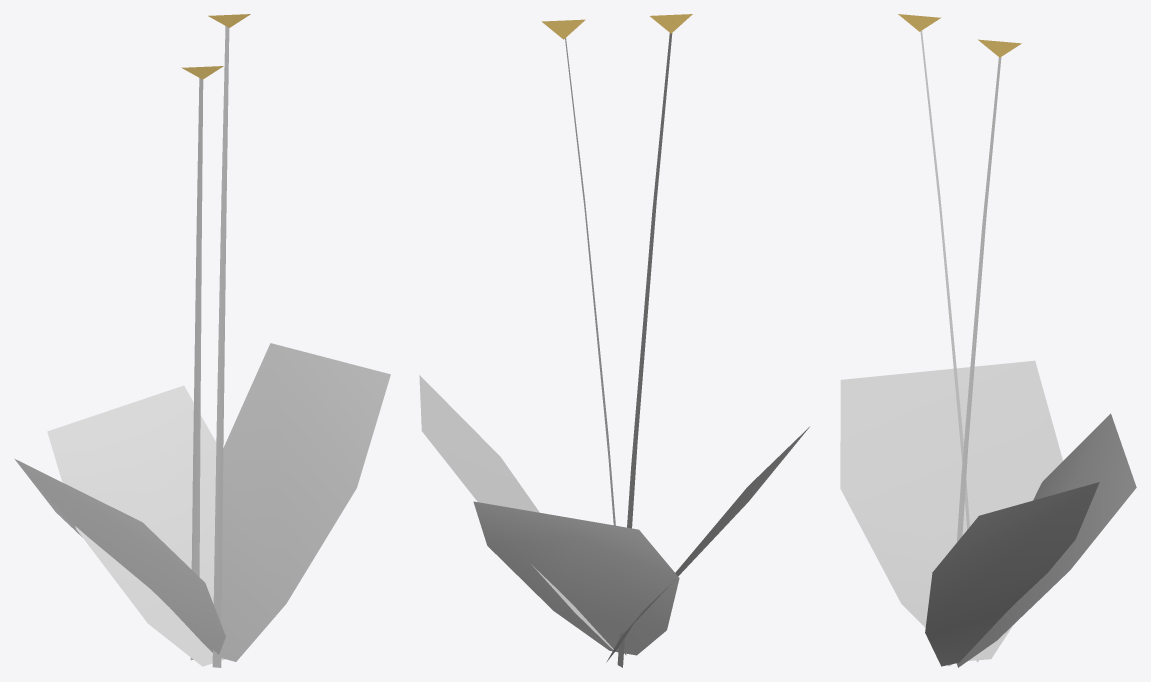
The model's file is BroadPlantainPatch_LOD1.glb.
3 renders of one model, left to right at view 1: azimuth 30°, elevation 25°; view 2: azimuth 150°, elevation 25°; view 3: azimuth 270°, elevation 25°, orthographic. The views are drawn at different scales.
Visible parts, largest first — view 1: BroadPlantainPatch_LOD1; view 2: BroadPlantainPatch_LOD1; view 3: BroadPlantainPatch_LOD1.
Boxes of the visible parts, x1,y1,x2,y2 form: BroadPlantainPatch_LOD1: [15, 14, 390, 667]; BroadPlantainPatch_LOD1: [419, 14, 809, 667]; BroadPlantainPatch_LOD1: [840, 14, 1136, 667].
Size of the model in its own units: 0.5085 by 0.8675 by 0.3652.
